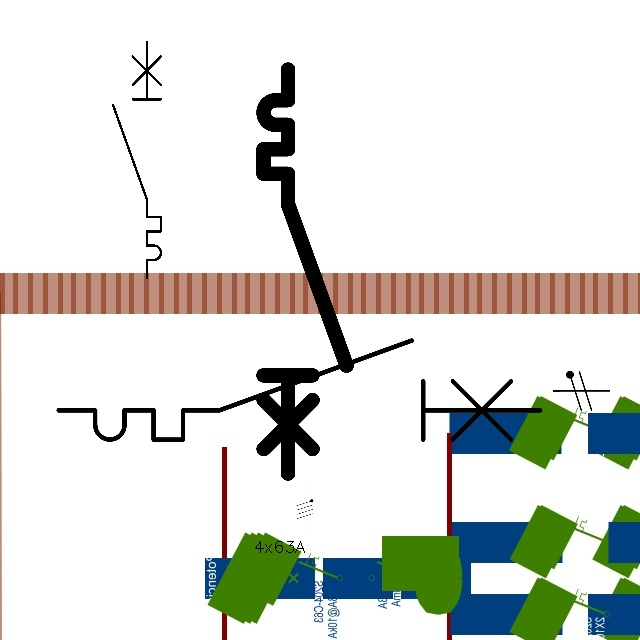interruptor_termomagnetico: (46, 328, 553, 452), (253, 59, 357, 484), (107, 36, 167, 284)
